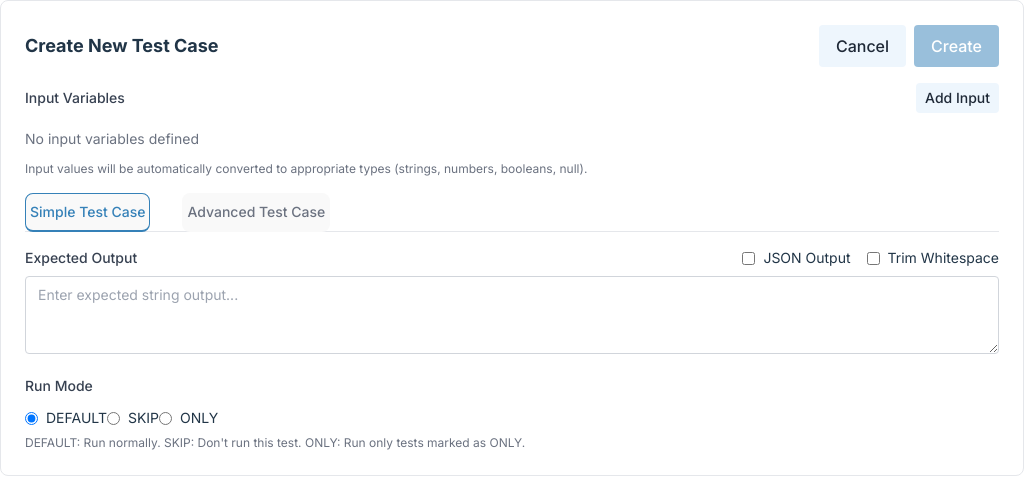
Test case: TestCaseEditor › allows adding input fields
expect the text "No input variables defined" is shown: met, box left=25, top=130, right=199, bottom=147
Click the button "Add Input". click: (958, 98)
box: left=916, top=83, right=999, bottom=113
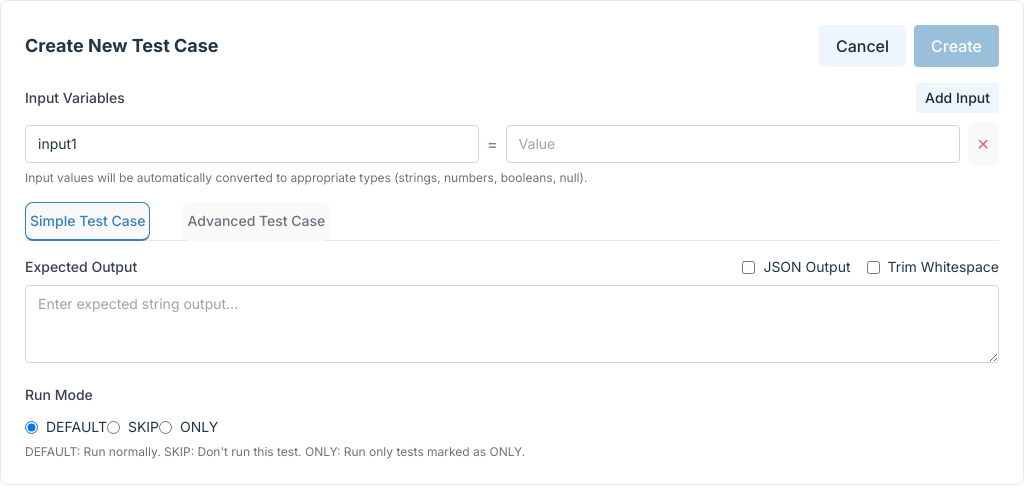
expect the field with placeholder "Key" is shown: met, box left=25, top=125, right=479, bottom=163
expect the field with placeholder "Value" is shown: met, box left=506, top=125, right=960, bottom=163
